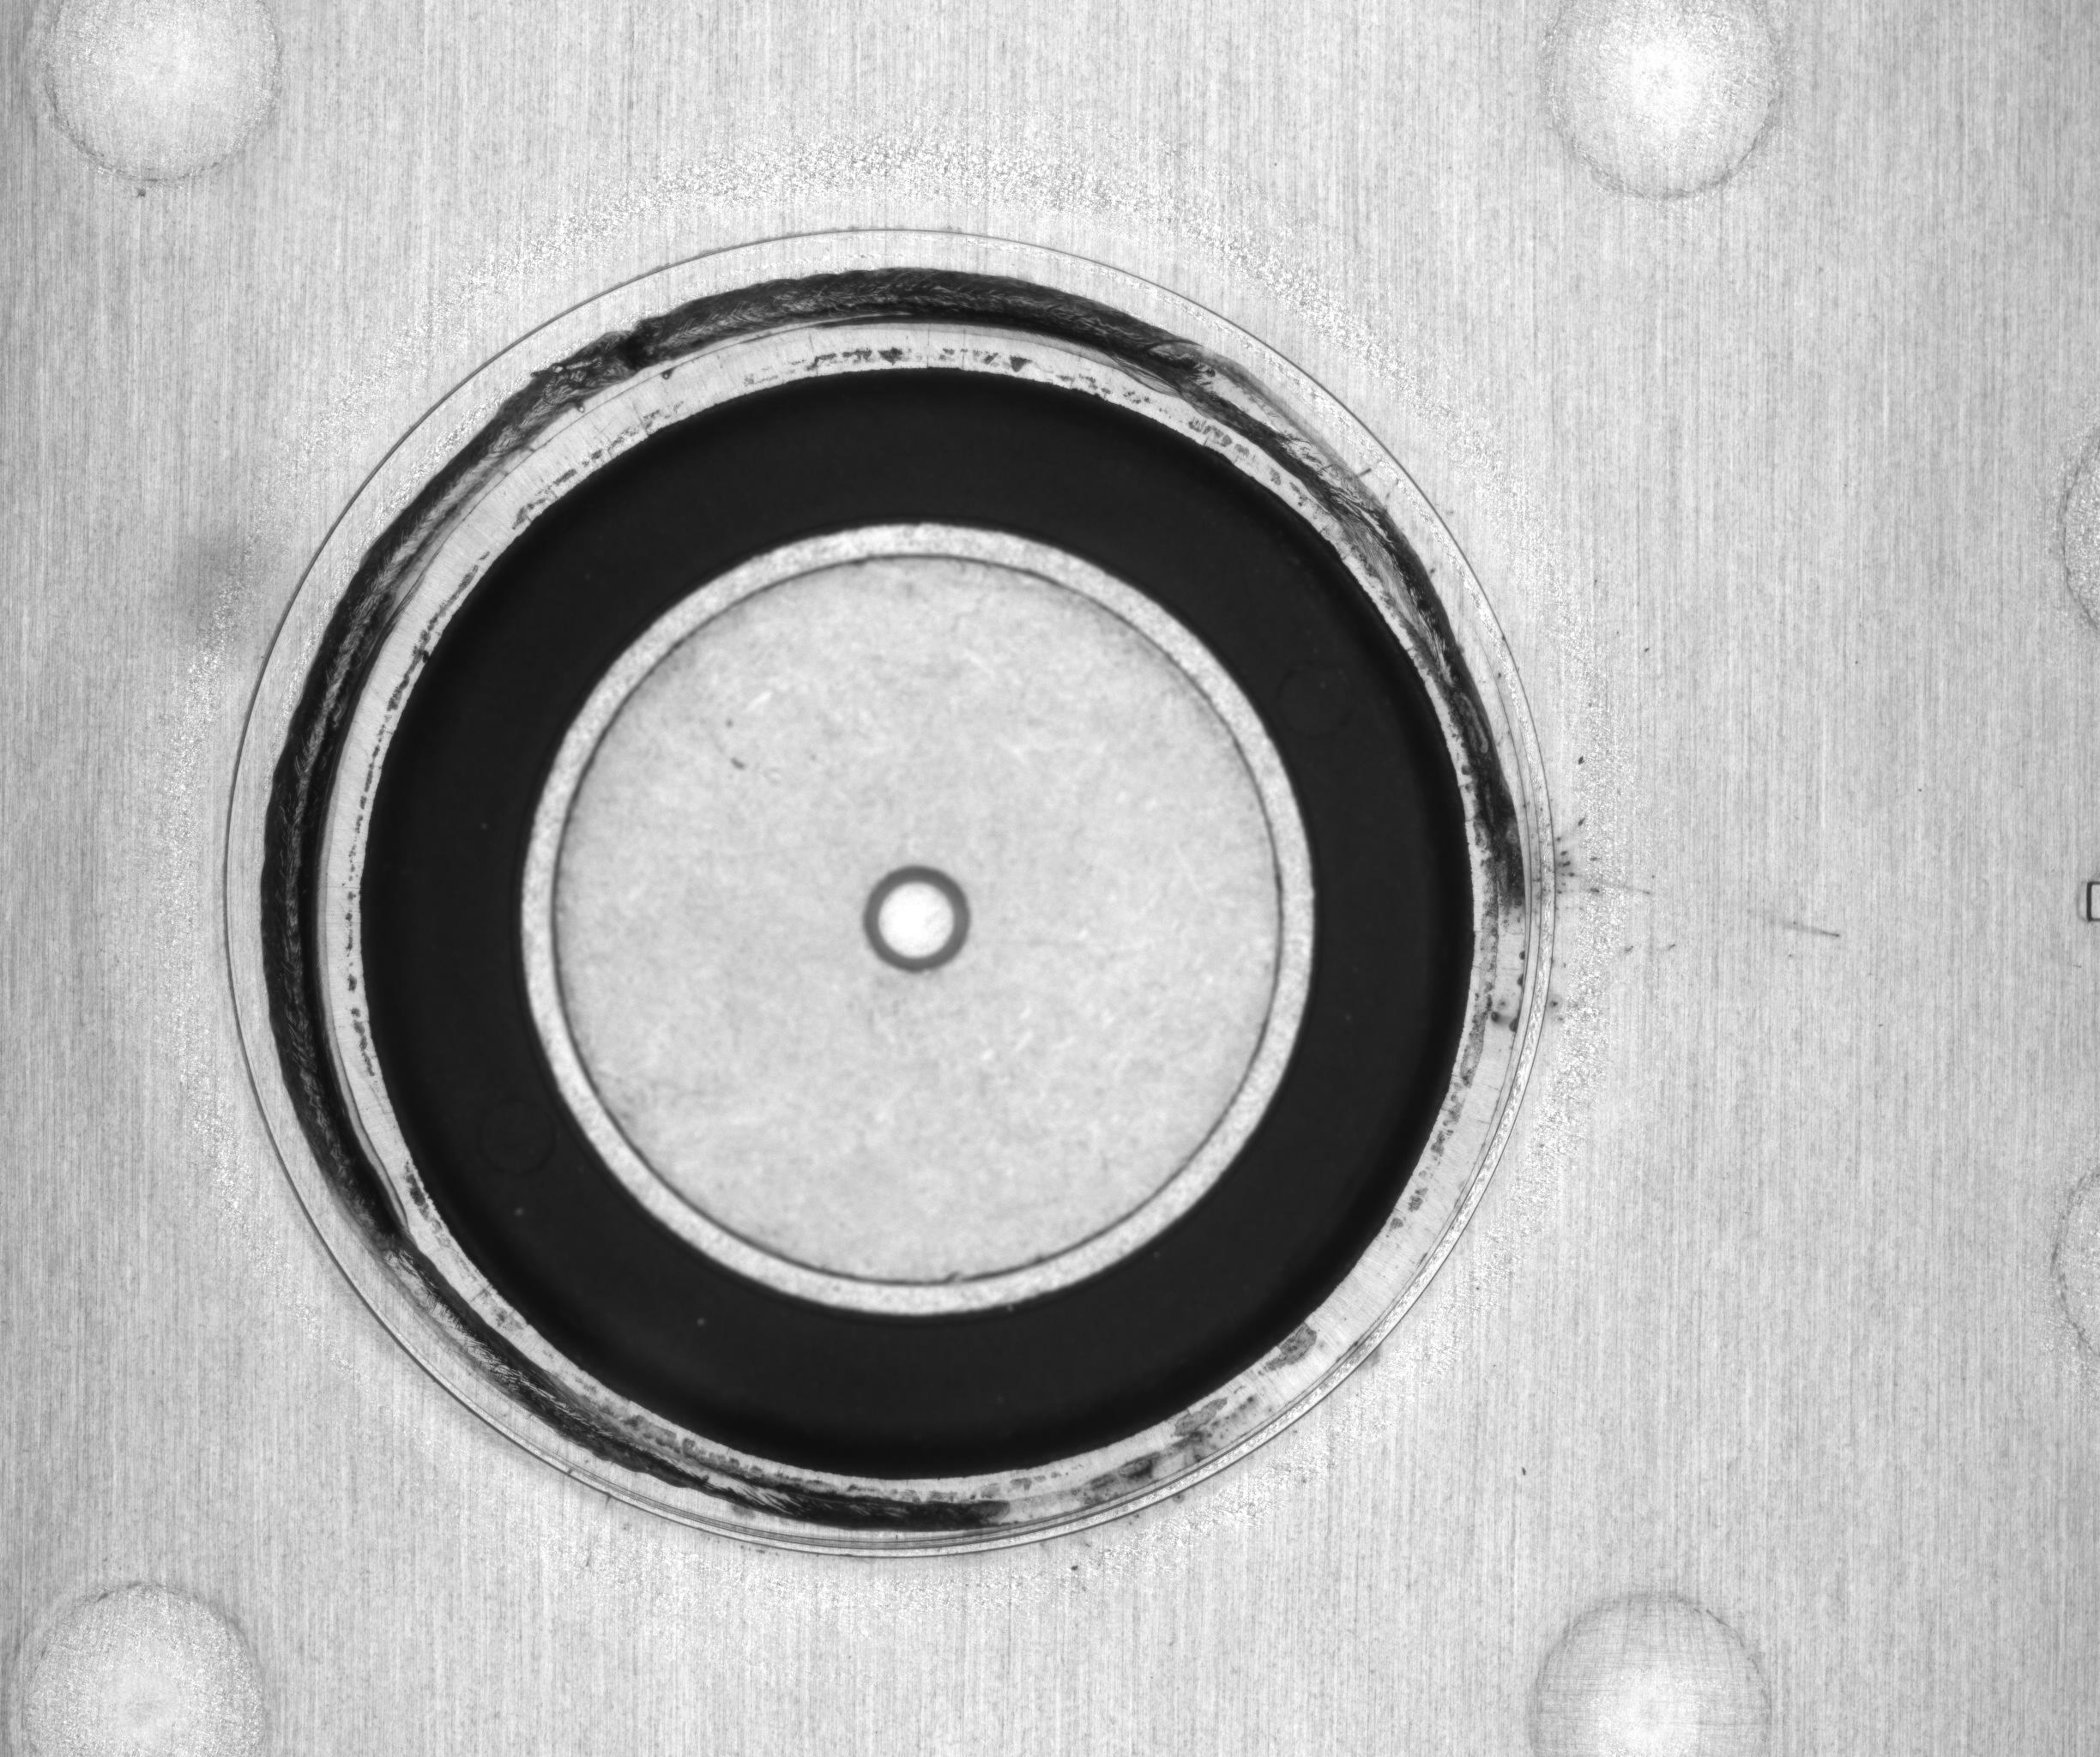shifting: (215, 218, 1572, 1565)
